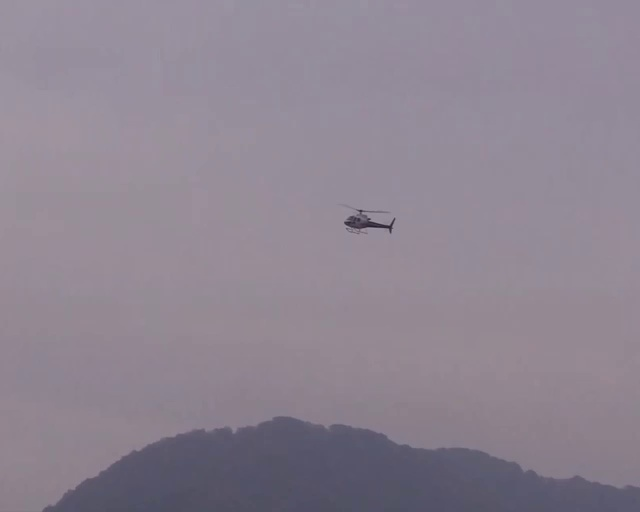HELICOPTER: (339, 202, 395, 235)
